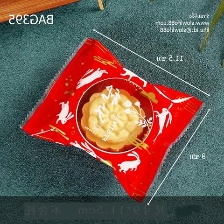snack: (13, 31, 212, 208)
